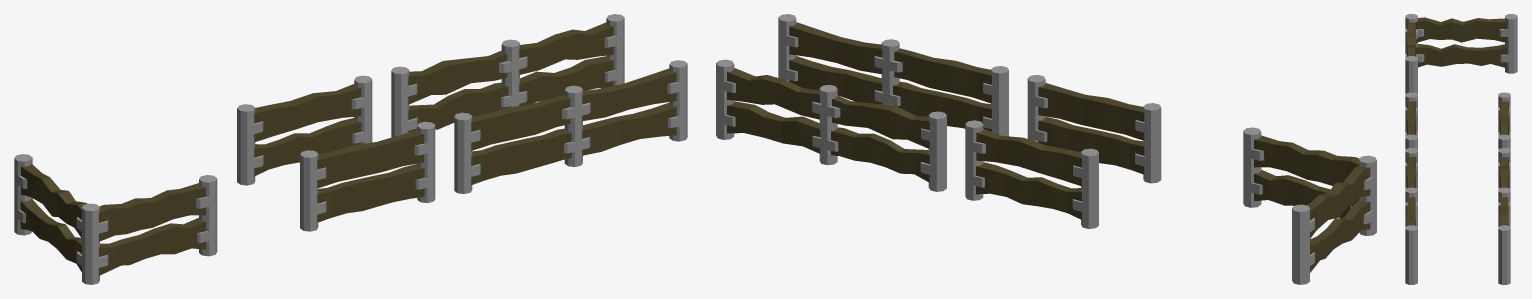
File: Walls.fbx
3 views of the same model, side by side, from view 1: azimuth 30°, elevation 25°; view 2: azimuth 150°, elevation 25°; view 3: azimuth 270°, elevation 25° (orthographic). The views are drawn at different scales.
Parts seen in each view (by area): view 1: Wall3, Wall4, Wall5, Wall1, Wall2; view 2: Wall4, Wall3, Wall5, Wall2, Wall1; view 3: Wall5, Wall3, Wall4, Wall1, Wall2.
Boxes of the visible parts, <box> form: Wall3: <box>454,60,687,193</box>; Wall4: <box>391,14,624,137</box>; Wall5: <box>14,154,217,284</box>; Wall1: <box>300,121,435,231</box>; Wall2: <box>237,75,372,185</box>; Wall4: <box>716,59,946,191</box>; Wall3: <box>778,14,1008,136</box>; Wall5: <box>1243,127,1376,284</box>; Wall2: <box>965,120,1098,228</box>; Wall1: <box>1027,74,1161,183</box>; Wall5: <box>1405,14,1517,93</box>; Wall3: <box>1405,148,1417,284</box>; Wall4: <box>1498,148,1510,284</box>; Wall1: <box>1405,92,1417,149</box>; Wall2: <box>1498,92,1510,149</box>.
Bounding box in the file's own units: 11.04 × 1.29 × 2.42.
